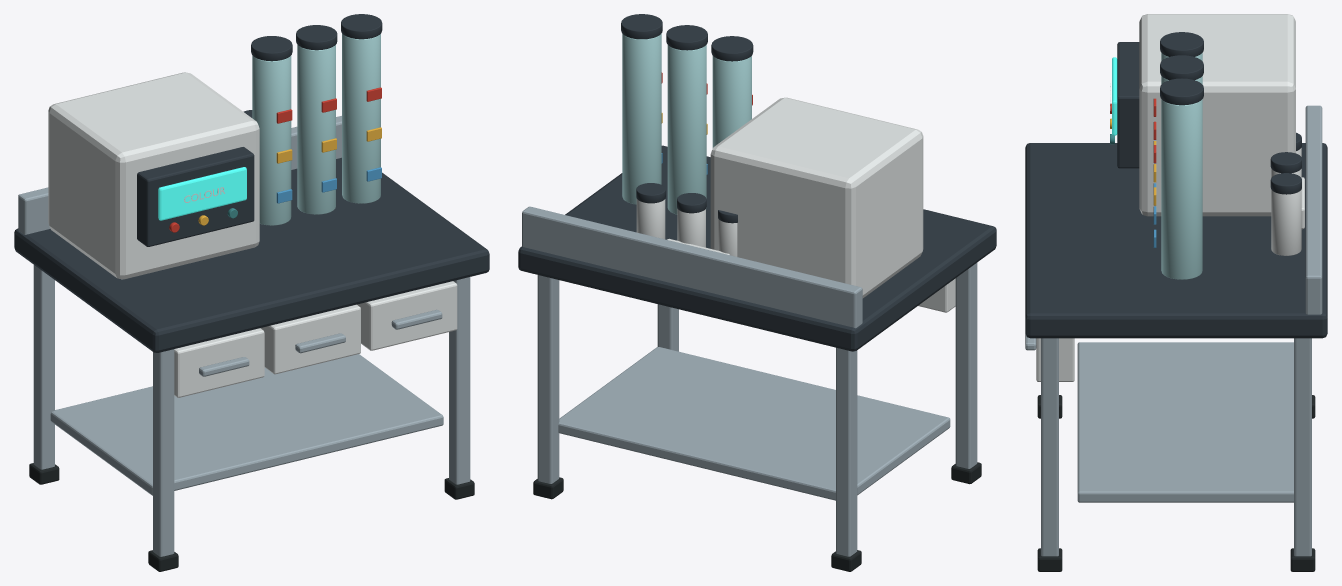
Rendered from chromatography-bench.glb.
The picture shows the model from 3 angles, left to right: view 1: azimuth 30°, elevation 25°; view 2: azimuth 150°, elevation 25°; view 3: azimuth 270°, elevation 25°; orthographic projection. The views are drawn at different scales.
Visible parts, largest first — view 1: Worktop, Equipment shelf, Instrument housing, Sample tube.001, Sample tube.002, Display housing, Sample tube, Tubular leg, Cabinet drawer.002, Cabinet drawer.001, Tubular leg.001, Cabinet drawer (+6 smaller); view 2: Instrument housing, Equipment shelf, Worktop, Splashback, Sample tube.002, Sample tube.001, Tubular leg.003, Tubular leg, Tubular leg.001, Sample tube, Closed sample container.002, Closed sample container.001 (+6 smaller); view 3: Worktop, Equipment shelf, Instrument housing, Sample tube.002, Tubular leg.002, Tubular leg.003, Splashback, Display housing, Closed sample container.002, Cap.002, Cap, Cap.001 (+6 smaller).
Boxes of the visible parts, left/top/right/bottom form: Worktop: left=14, top=157, right=489, bottom=352; Equipment shelf: left=50, top=354, right=443, bottom=495; Instrument housing: left=48, top=72, right=259, bottom=279; Sample tube.001: left=297, top=45, right=335, bottom=214; Sample tube.002: left=342, top=33, right=380, bottom=203; Display housing: left=137, top=147, right=254, bottom=246; Sample tube: left=252, top=55, right=291, bottom=225; Tubular leg: left=153, top=349, right=174, bottom=556; Cabinet drawer.002: left=357, top=281, right=457, bottom=350; Cabinet drawer.001: left=260, top=304, right=360, bottom=374; Tubular leg.001: left=33, top=265, right=54, bottom=469; Cabinet drawer: left=174, top=328, right=264, bottom=397; Instrument housing: left=710, top=97, right=923, bottom=298; Equipment shelf: left=558, top=347, right=950, bottom=500; Worktop: left=518, top=145, right=996, bottom=351; Splashback: left=522, top=206, right=862, bottom=328; Sample tube.002: left=622, top=33, right=661, bottom=204; Sample tube.001: left=667, top=45, right=706, bottom=214; Tubular leg.003: left=537, top=275, right=559, bottom=483; Tubular leg: left=955, top=263, right=977, bottom=468; Tubular leg.001: left=836, top=347, right=857, bottom=556; Sample tube: left=712, top=56, right=751, bottom=148; Closed sample container.002: left=636, top=199, right=665, bottom=239; Closed sample container.001: left=677, top=209, right=705, bottom=247; Worktop: left=1025, top=143, right=1327, bottom=338; Equipment shelf: left=1077, top=342, right=1293, bottom=502; Instrument housing: left=1139, top=14, right=1295, bottom=216; Sample tube.002: left=1161, top=99, right=1202, bottom=279; Tubular leg.002: left=1041, top=338, right=1058, bottom=556; Tubular leg.003: left=1294, top=338, right=1311, bottom=556; Splashback: left=1305, top=105, right=1322, bottom=314; Display housing: left=1117, top=42, right=1139, bottom=168; Closed sample container.002: left=1271, top=190, right=1301, bottom=255; Cap.002: left=1160, top=78, right=1203, bottom=105; Cap: left=1160, top=32, right=1203, bottom=56; Cap.001: left=1160, top=55, right=1203, bottom=80.
Bounding box in the file's own units: 1.5 × 1.85 × 1.1.
